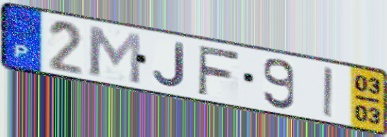2: (46, 19, 87, 78)
9: (262, 58, 297, 110)
F: (196, 43, 242, 97)
I: (321, 65, 336, 120)
J: (151, 41, 188, 90)
M: (85, 23, 143, 87)
